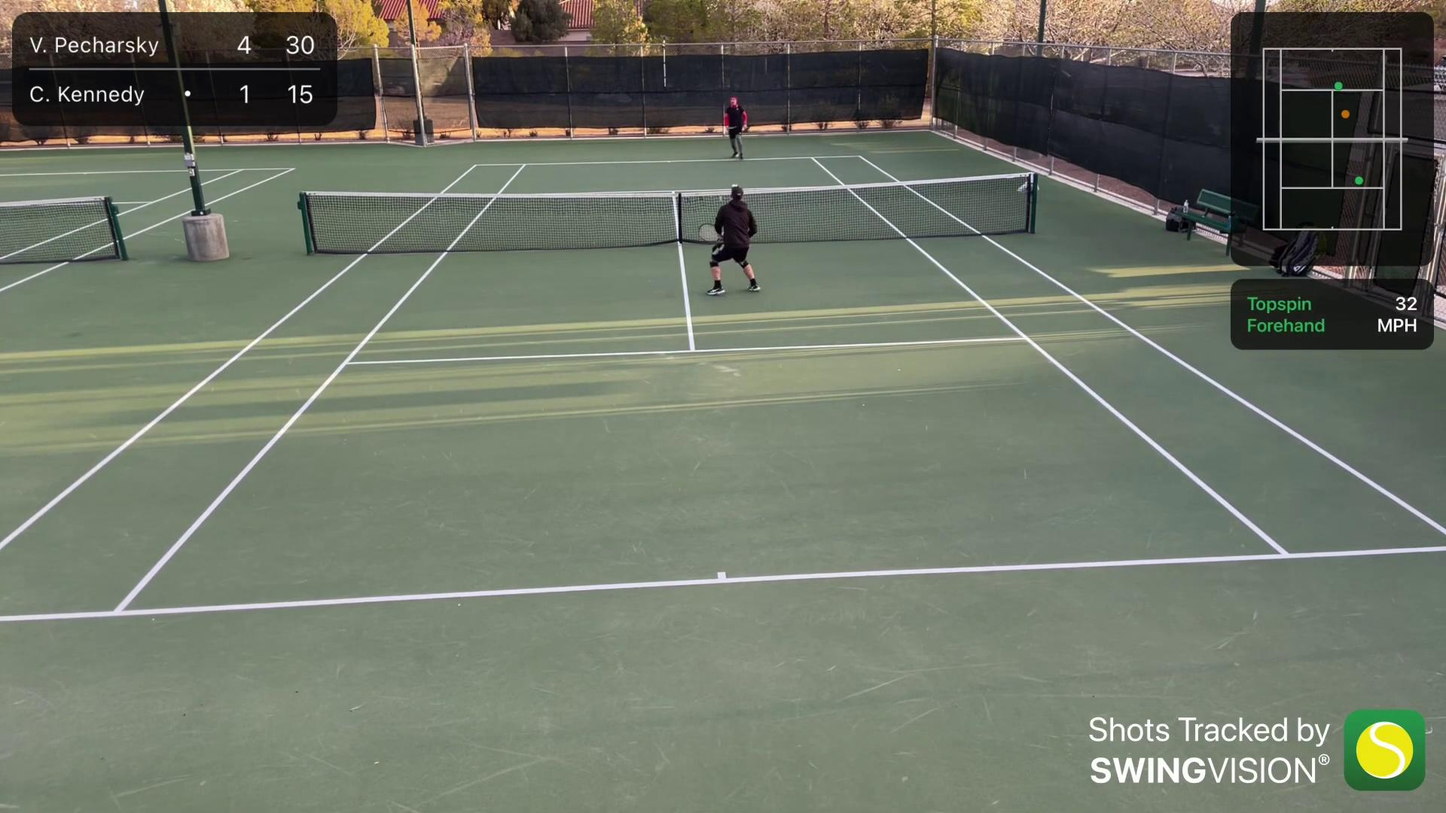ball: (640, 23, 647, 28)
